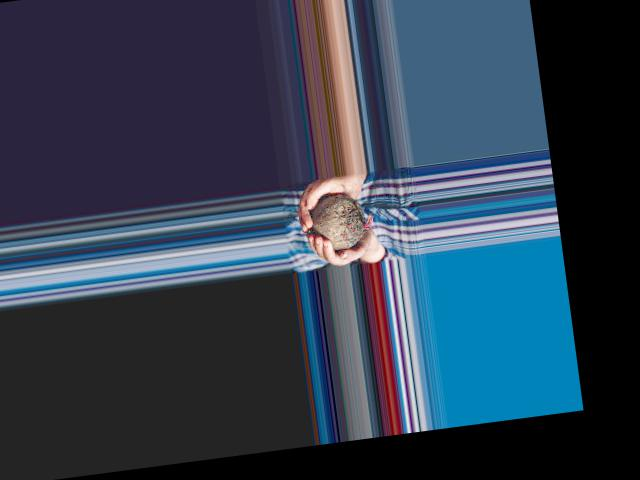beet: (308, 189, 377, 252)
